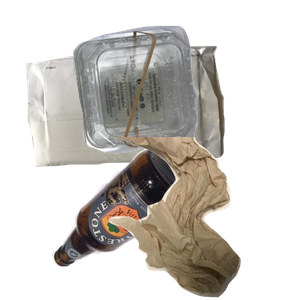glass: (49, 145, 229, 300)
paper: (24, 43, 242, 202)
plastic: (71, 23, 300, 169)
trash: (103, 137, 300, 300)
